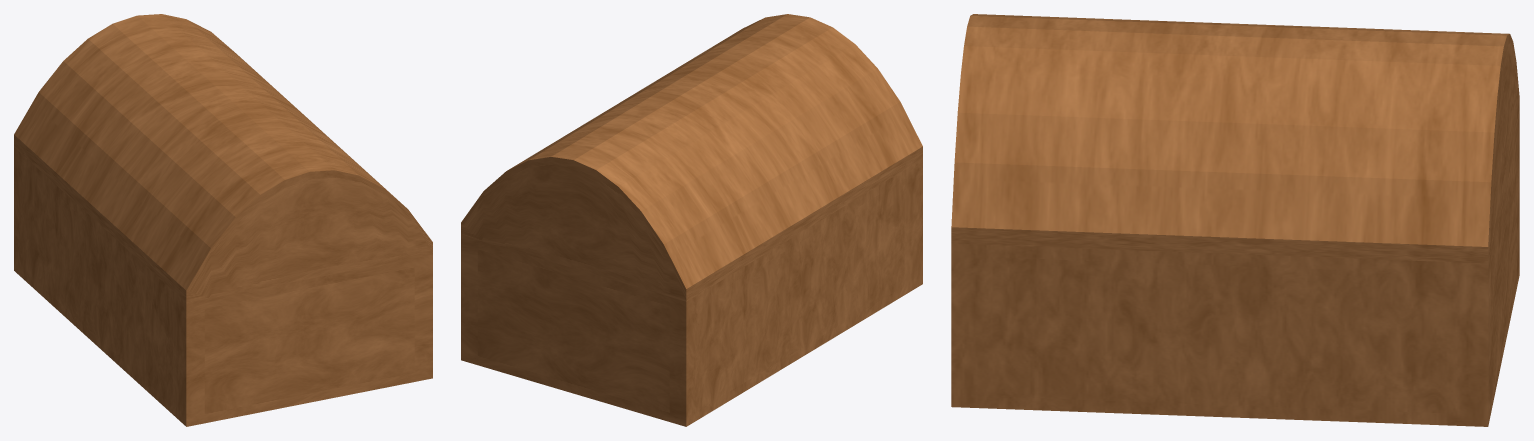
Rendered from chest.fbx.
The picture shows the model from 3 angles, left to right: view 1: azimuth 30°, elevation 25°; view 2: azimuth 150°, elevation 25°; view 3: azimuth 270°, elevation 25°; orthographic projection. The views are drawn at different scales.
Visible parts, largest first — view 1: Top, Bottom; view 2: Top, Bottom; view 3: Top, Bottom.
Boxes of the visible parts, box(x1,y1,x2,y2) form: Top: box(14, 14, 432, 302); Bottom: box(14, 147, 432, 426); Top: box(461, 14, 922, 301); Bottom: box(461, 159, 922, 426); Top: box(951, 14, 1519, 263); Bottom: box(951, 112, 1519, 426).
Size of the model in its own units: 61.05 by 50.74 by 85.67.
Materials: 1 (1 with a texture image).
